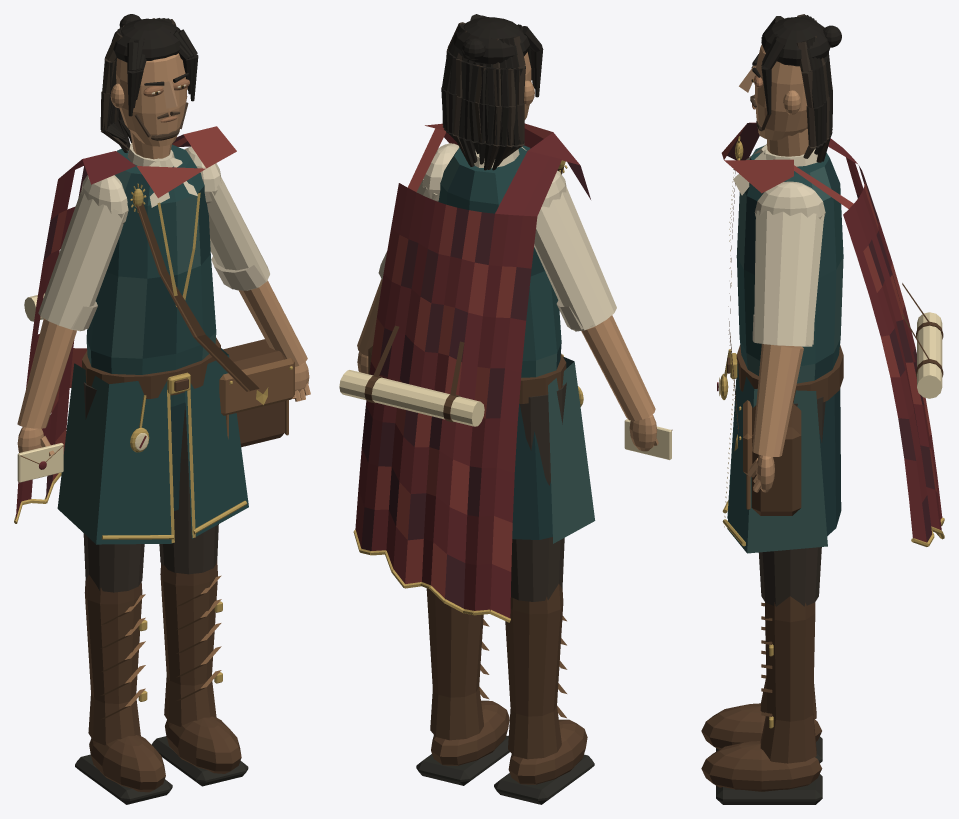
The model's file is human-courier.glb.
3 renders of one model, left to right at view 1: azimuth 30°, elevation 25°; view 2: azimuth 150°, elevation 25°; view 3: azimuth 270°, elevation 25°, orthographic. The views are drawn at different scales.
Visible parts, largest first — view 1: Waistcoat, Split_coat_R, Cloak_folds, Boot_shaft_R, Boot_shaft_L, Split_coat_L, Linen_sleeve_R, Face, Forearm_R, Trouser_thigh_L, Linen_sleeve_L, Boot_toe_L (+19 smaller); view 2: Cloak_folds, Boot_shaft_R, Waistcoat, Boot_shaft_L, Linen_sleeve_R, Split_coat_R, Trouser_thigh_R, Back_coat, Map_roll, Forearm_R, Boot_toe_R, Boot_toe_L (+8 smaller); view 3: Cloak_folds, Waistcoat, Linen_sleeve_L, Split_coat_L, Boot_shaft_L, Forearm_L, Boot_toe_L, Trouser_thigh_L, Messenger_satchel, Face, Back_coat, Boot_toe_R (+8 smaller).
Boxes of the visible parts, box(x1,y1,x2,y2) form: Waistcoat: box(86, 144, 216, 406); Split_coat_R: box(57, 363, 172, 544); Cloak_folds: box(15, 126, 236, 519); Boot_shaft_R: box(84, 575, 142, 745); Boot_shaft_L: box(160, 559, 217, 726); Split_coat_L: box(185, 348, 248, 538); Linen_sleeve_R: box(38, 190, 125, 331); Face: box(116, 53, 187, 146); Forearm_R: box(17, 318, 76, 428); Trouser_thigh_L: box(159, 403, 218, 574); Linen_sleeve_L: box(207, 176, 269, 290); Boot_toe_L: box(165, 716, 241, 773); Cloak_folds: box(355, 123, 590, 618); Boot_shaft_R: box(505, 584, 563, 759); Waistcoat: box(438, 145, 561, 377); Boot_shaft_L: box(426, 588, 483, 740); Linen_sleeve_R: box(534, 186, 616, 331); Split_coat_R: box(548, 356, 595, 543); Trouser_thigh_R: box(511, 382, 566, 601); Back_coat: box(512, 404, 552, 539); Map_roll: box(339, 370, 484, 426); Forearm_R: box(581, 315, 655, 420); Boot_toe_R: box(508, 719, 587, 784); Boot_toe_L: box(431, 700, 509, 765); Cloak_folds: box(721, 122, 942, 542); Waistcoat: box(736, 146, 843, 383); Linen_sleeve_L: box(754, 210, 824, 346); Split_coat_L: box(727, 363, 827, 553); Boot_shaft_L: box(760, 596, 816, 763); Forearm_L: box(752, 344, 803, 456); Boot_toe_L: box(701, 741, 822, 791); Trouser_thigh_L: box(759, 396, 825, 606); Messenger_satchel: box(751, 403, 801, 515); Face: box(754, 44, 807, 140); Back_coat: box(819, 388, 841, 535); Boot_toe_R: box(701, 703, 821, 749).
Size of the model in its own units: 0.7395 by 1.76 by 0.5149.
